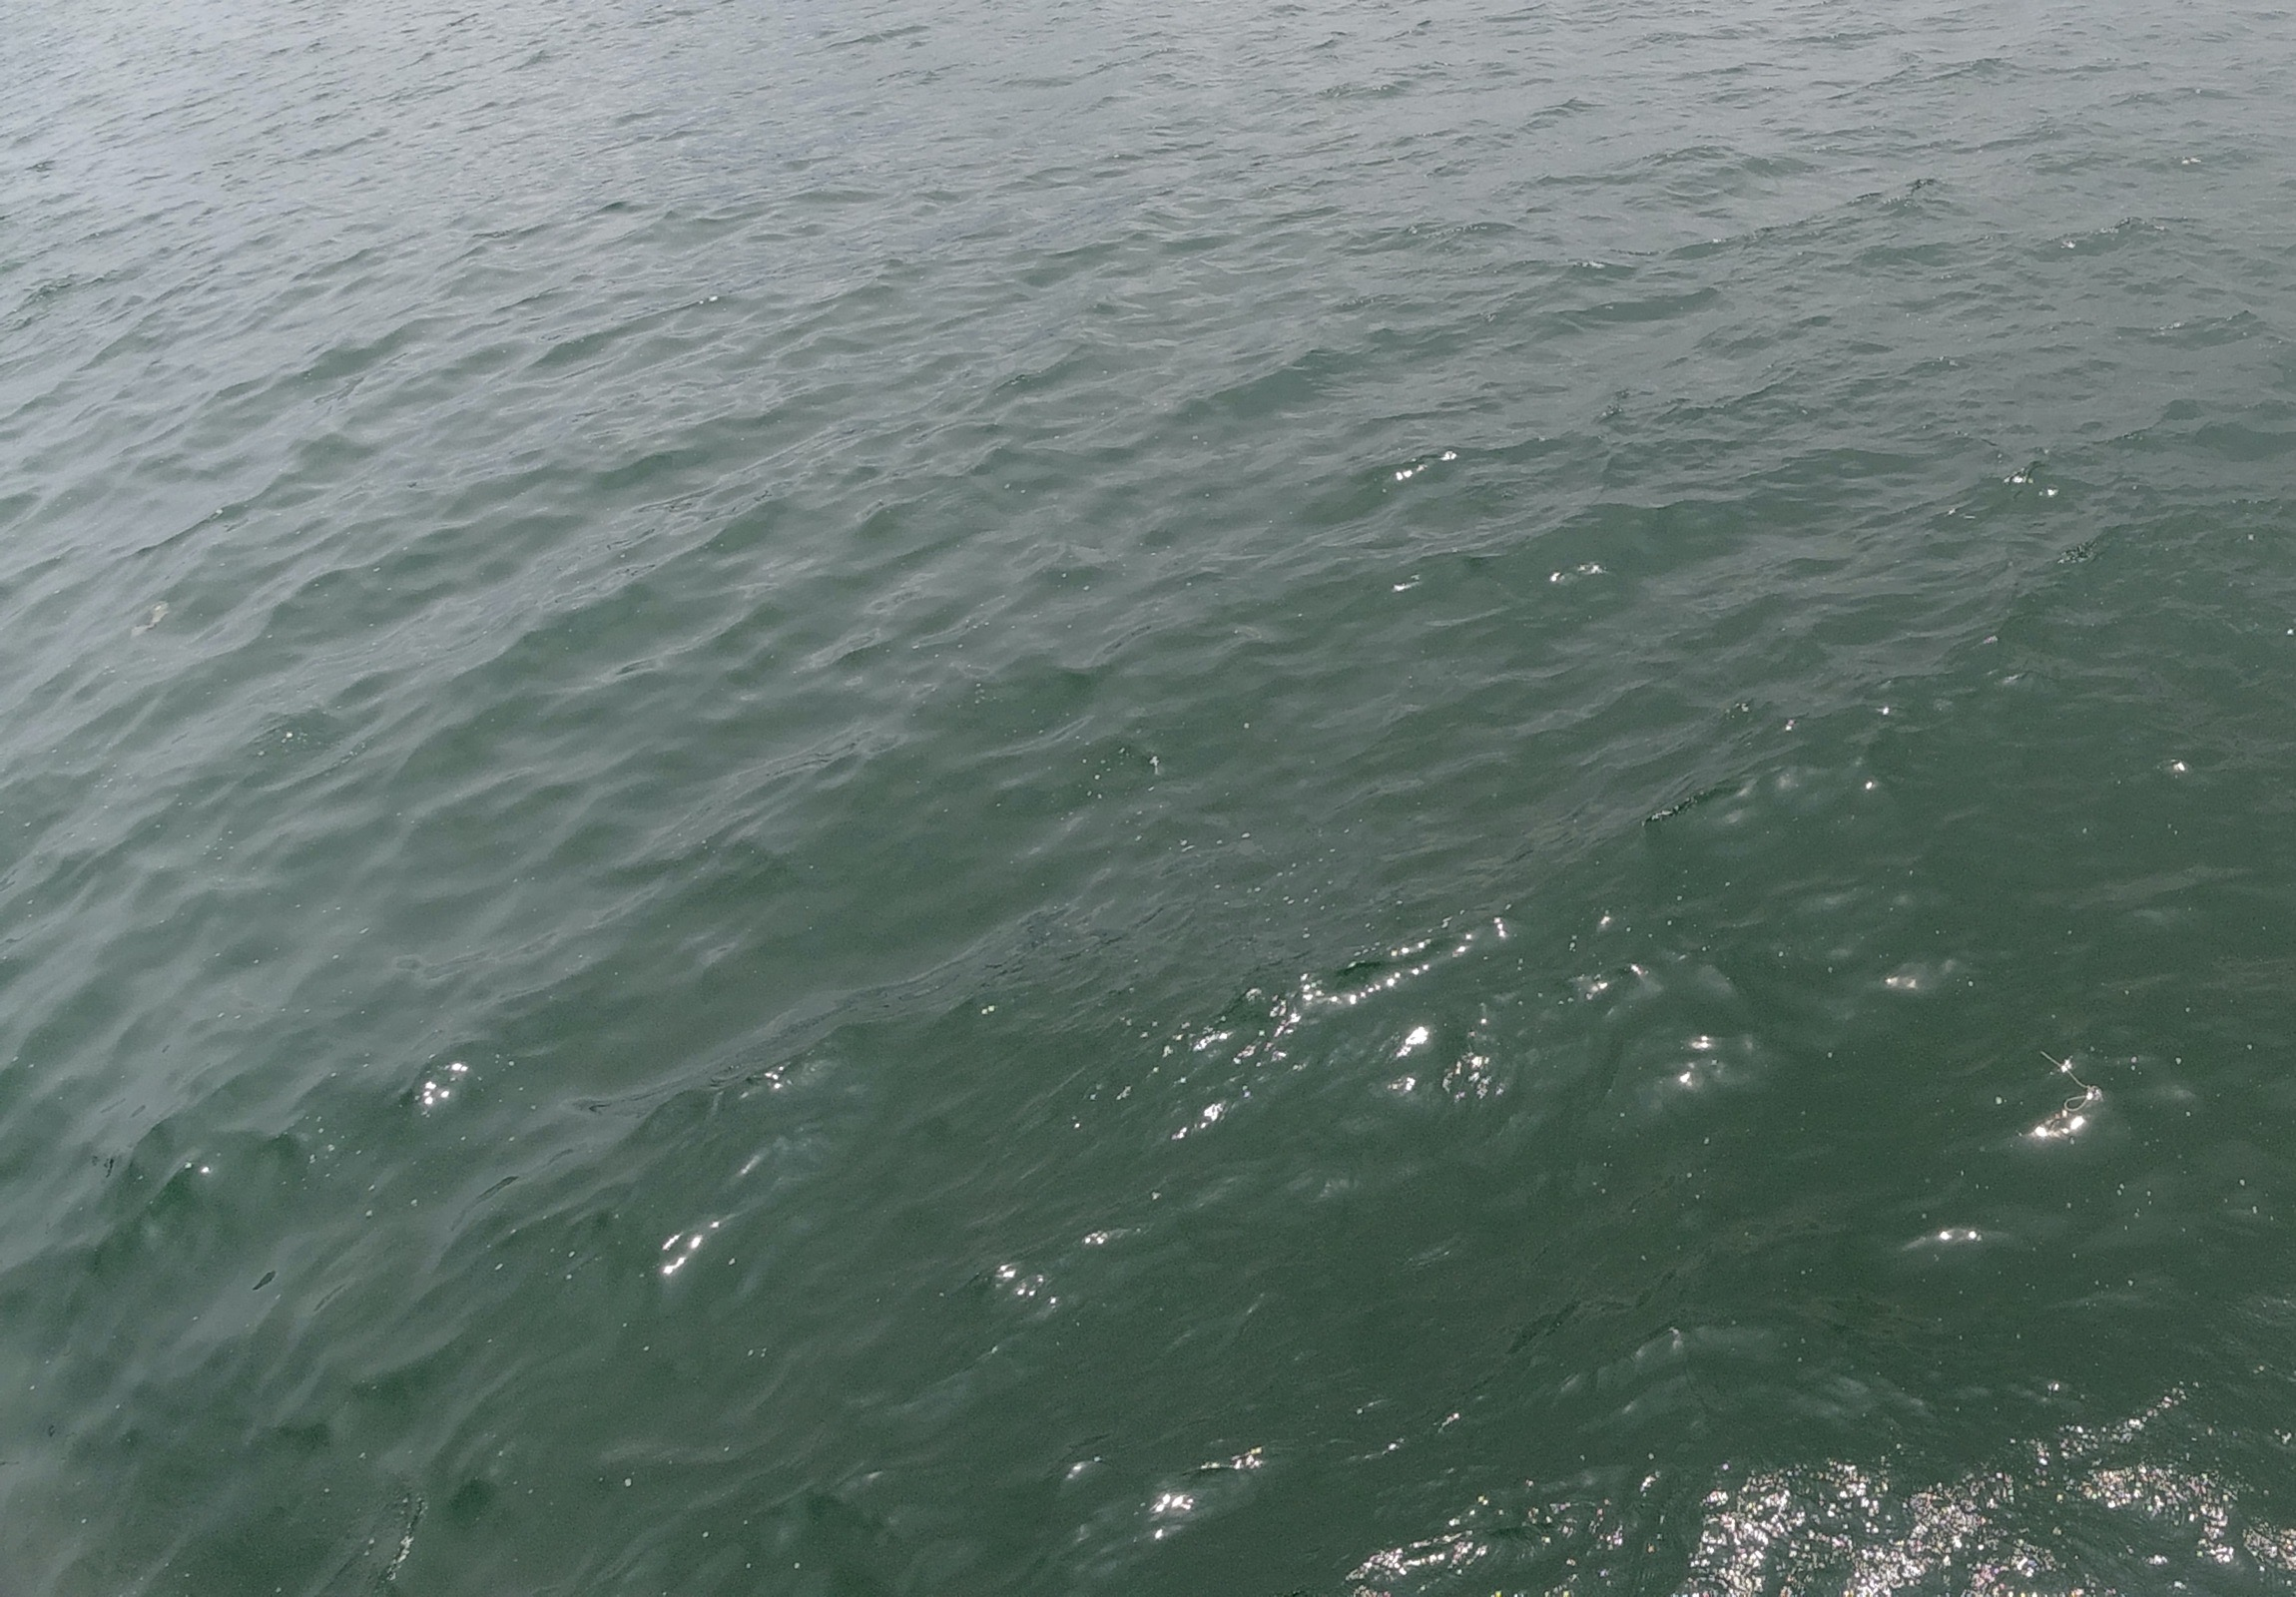plastic: (2034, 1042, 2116, 1122), (120, 593, 180, 648)
